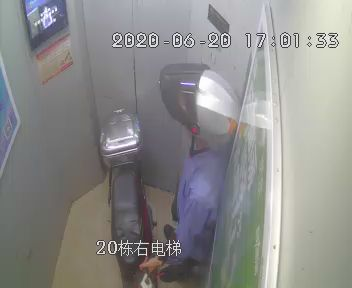Electric-bicycle: (93, 111, 161, 286)
